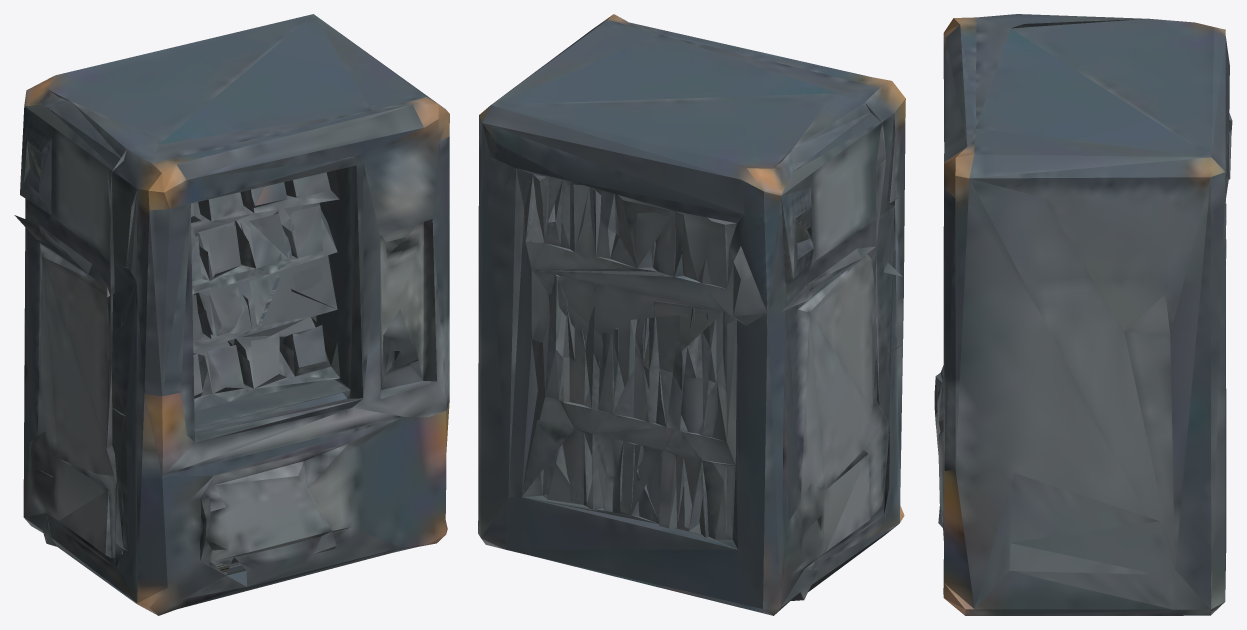
Rendered from vending.glb.
The picture shows the model from 3 angles, left to right: view 1: azimuth 30°, elevation 25°; view 2: azimuth 150°, elevation 25°; view 3: azimuth 270°, elevation 25°; orthographic projection. The views are drawn at different scales.
Parts seen in each view (by area): view 1: Mesh_0; view 2: Mesh_0; view 3: Mesh_0.
Boxes of the visible parts, box(x1,y1,x2,y2) form: Mesh_0: box(14, 14, 449, 615); Mesh_0: box(478, 14, 905, 615); Mesh_0: box(934, 14, 1232, 615).
Size of the model in its own units: 1.51 by 2 by 1.16.
Materials: 1 (1 with a texture image).
